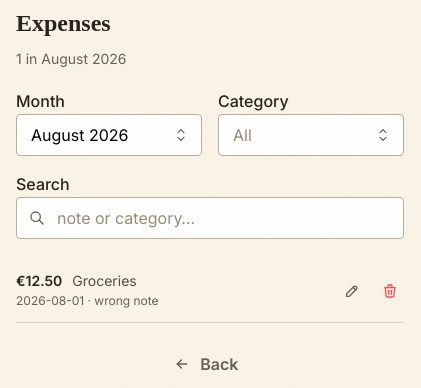
Test: Expense browser + note editing (BR-LST-1/BR-EDIT-1) › composes filters and reaches the row editor (EX-IC-1)
The image size is (421, 388).
Note: Search narrows to the matching row.
Type "wrong" into the field labelled "Search" at (210, 218), box [16, 197, 404, 239]
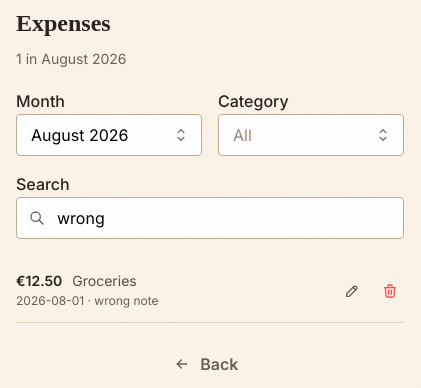
Expected: the text "2026-08-01 · wrong note" is shown, [16, 293, 159, 310]
Replace the text in the field labelled "Search" with "no-match-xyz" at (210, 218), box [16, 197, 404, 239]
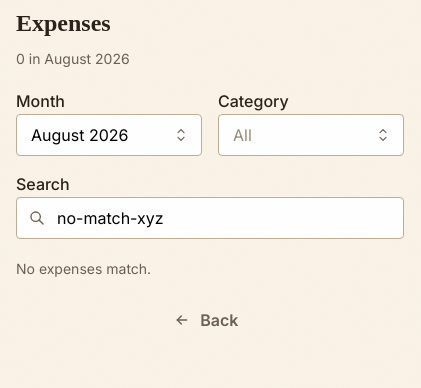
Expected: the text "No expenses match." is shown, [16, 260, 151, 277]
